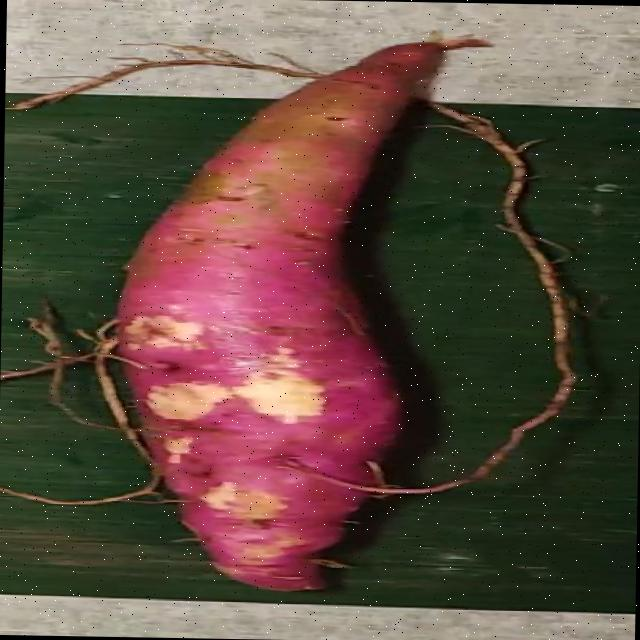Sweet Potato: (109, 40, 447, 590)
